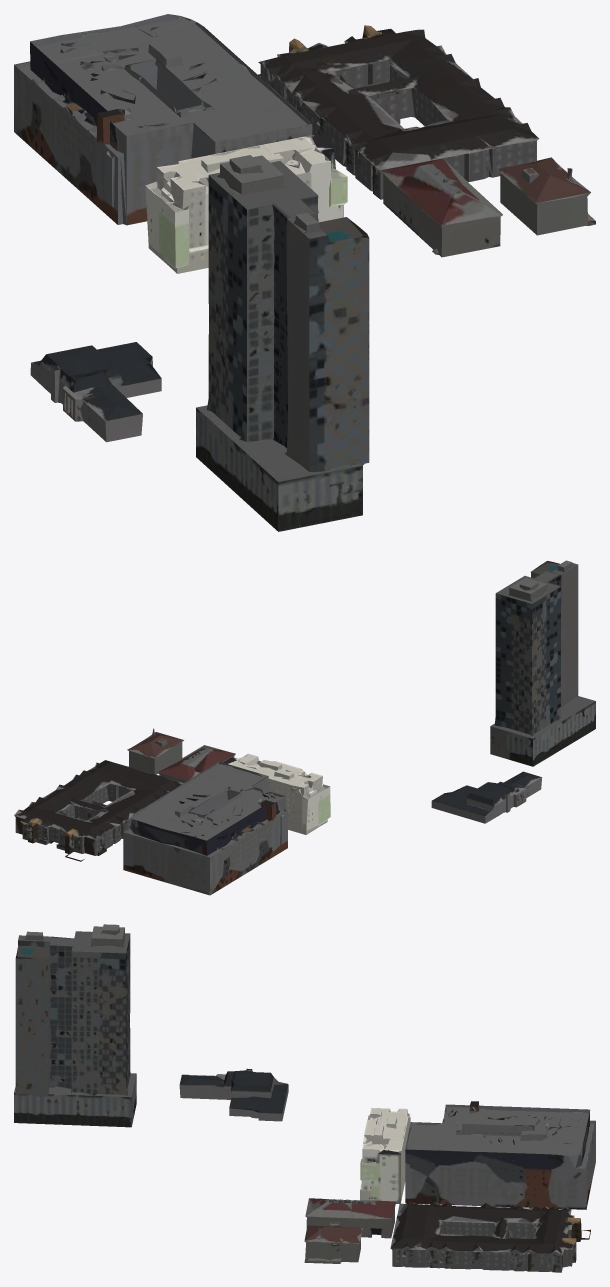
The model's file is t_-2_-2.coat.glb.
3 views of the same model, one above another, from view 1: azimuth 30°, elevation 25°; view 2: azimuth 150°, elevation 25°; view 3: azimuth 270°, elevation 25° (orthographic). The views are drawn at different scales.
Parts seen in each view (by area): view 1: far; view 2: far; view 3: far.
Part boxes in pixels (left/top/right/bottom): far: left=14, top=14, right=595, bottom=531; far: left=14, top=560, right=595, bottom=895; far: left=14, top=924, right=595, bottom=1272.
Bounding box in the file's own units: 214 × 99.28 × 284.
1 material, 1 textured.
